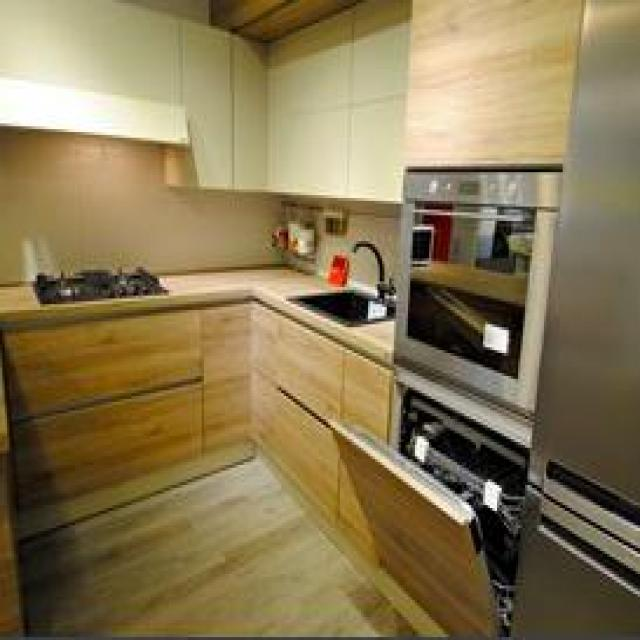dishwasher: (328, 376, 530, 634)
